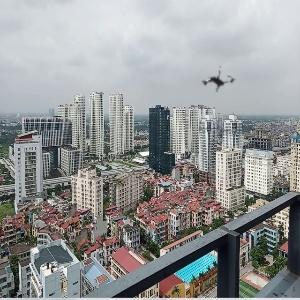drone: (184, 47, 250, 113)
